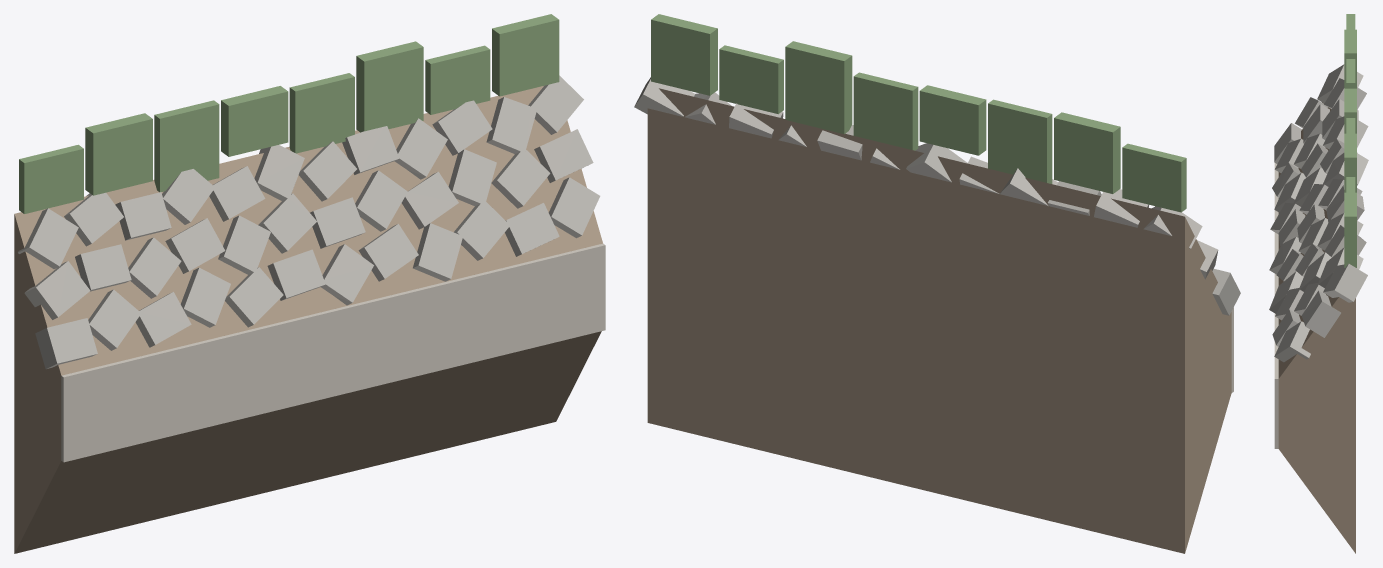
The model's file is r-156-bay-levee-riprap.glb.
The picture shows the model from 3 angles, left to right: view 1: azimuth 30°, elevation 25°; view 2: azimuth 150°, elevation 25°; view 3: azimuth 270°, elevation 25°; orthographic projection. The views are drawn at different scales.
Parts seen in each view (by area): view 1: levee, riprap, crest, pickleweed; view 2: levee, pickleweed, riprap; view 3: riprap, levee, pickleweed, crest.
Part boxes in pixels (<box>): levee: <box>14,86,602,553</box>; riprap: <box>18,75,600,368</box>; crest: <box>61,243,605,462</box>; pickleweed: <box>19,14,559,213</box>; levee: <box>647,88,1231,553</box>; pickleweed: <box>651,14,1186,212</box>; riprap: <box>634,77,1240,315</box>; riprap: <box>1269,64,1368,362</box>; levee: <box>1278,102,1355,553</box>; pickleweed: <box>1344,14,1356,267</box>; crest: <box>1274,163,1278,448</box>.
Size of the model in its own units: 20806 by 14601 by 3878.
